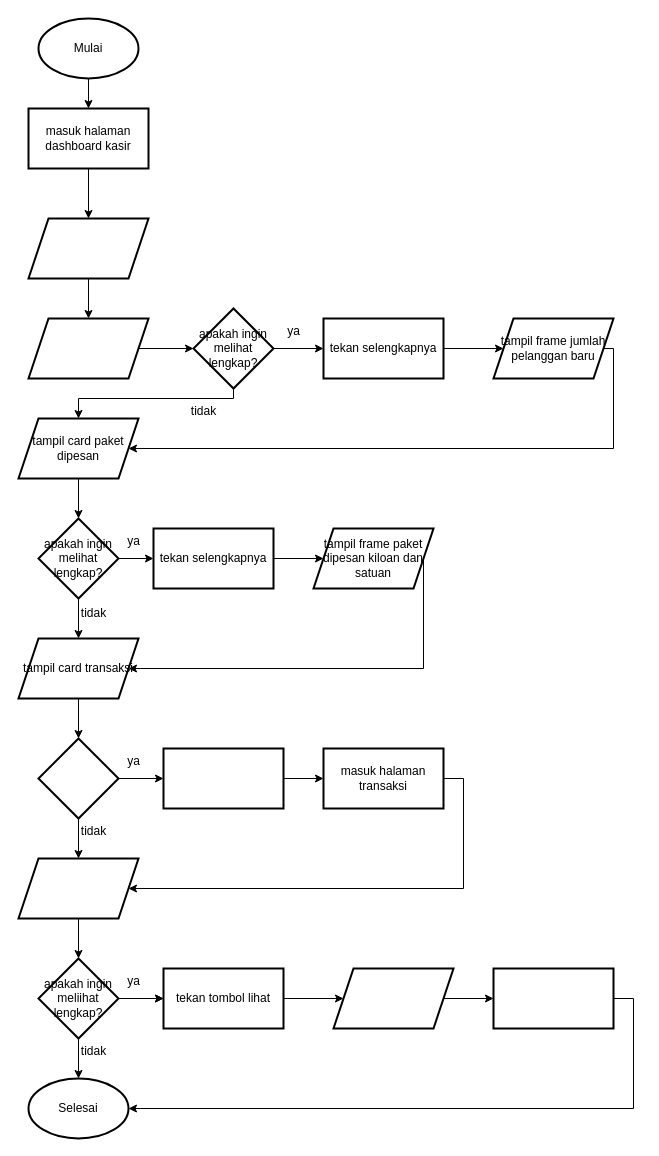
Image size: 659x1156. Some labels were removed from this diagram. Each missing label, with the centre of its shape:
"apakah ingin mengunjungi card?" goes at (x=78, y=778).
"tampil card jumlah pelanggan" goes at (x=88, y=348).
"tampil card laundry belum selesai" goes at (x=78, y=888).
"tampil card transaksi hari ini" goes at (x=88, y=248).
"tampil frame data laundry selesai dan belum selesai" goes at (x=393, y=998).
"tekan close" goes at (x=553, y=998).
"tekan tombol transaksi sekarang" goes at (x=223, y=778).
